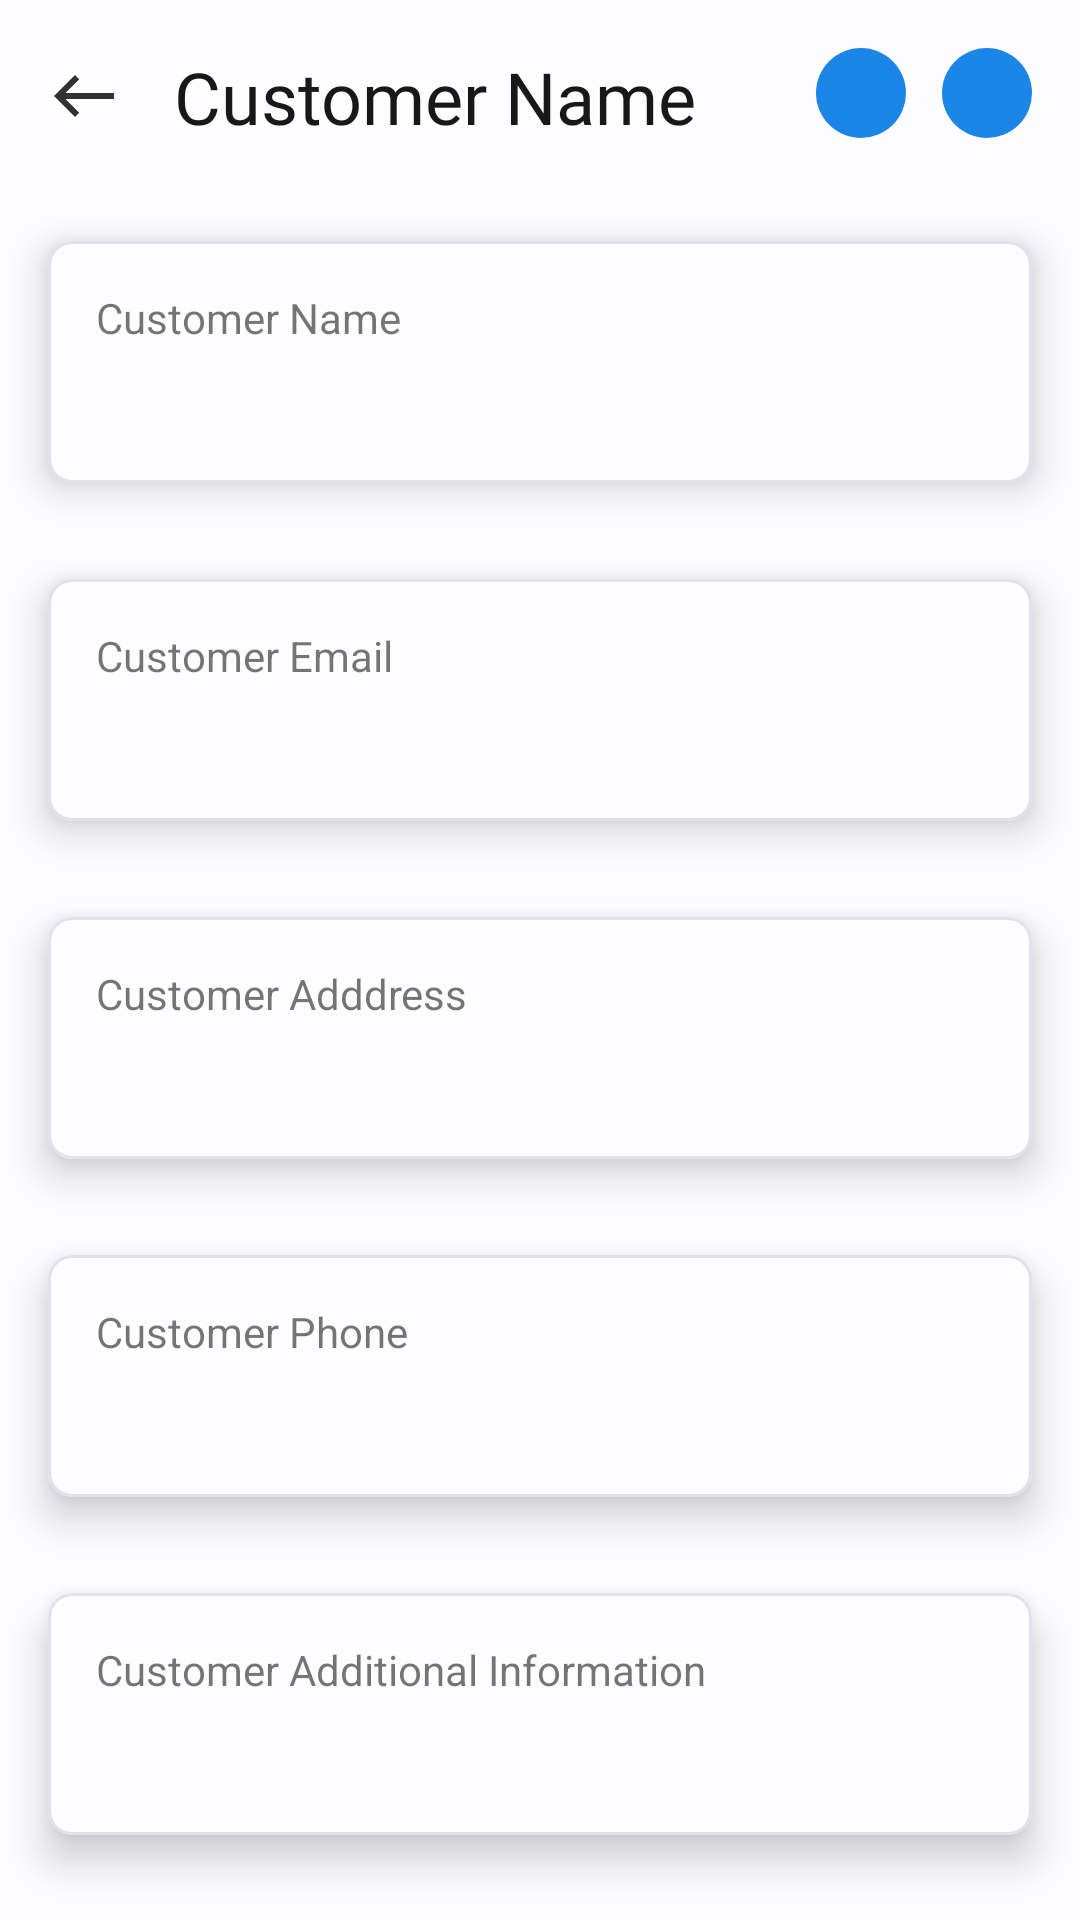

Icon bounding boxes for this 1080w x 1920h phone screenshot, format box=[x1, y1, x2, y2]:
Back Button: box=[54, 75, 114, 117]
